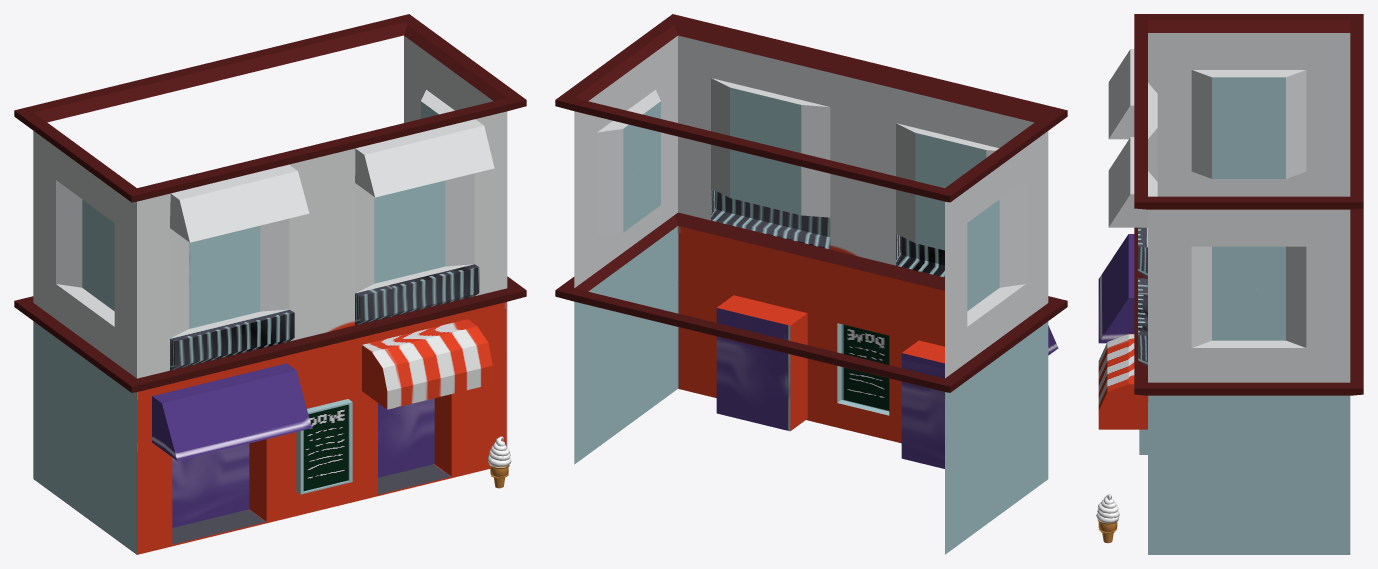
The model's file is building.obj.
The picture shows the model from 3 angles, left to right: view 1: azimuth 30°, elevation 25°; view 2: azimuth 150°, elevation 25°; view 3: azimuth 270°, elevation 25°; orthographic projection. The views are drawn at different scales.
Parts seen in each view (by area): view 1: Cube; view 2: Cube; view 3: Cube, BézierCircle.
Part boxes in pixels (<box>): Cube: <box>14,14,526,554</box>; Cube: <box>555,14,1067,554</box>; Cube: <box>1098,14,1363,554</box>; BézierCircle: <box>1096,494,1119,523</box>.
Bounding box in the file's own units: 13.12 × 11.64 × 7.87.
1 material, 1 textured.
